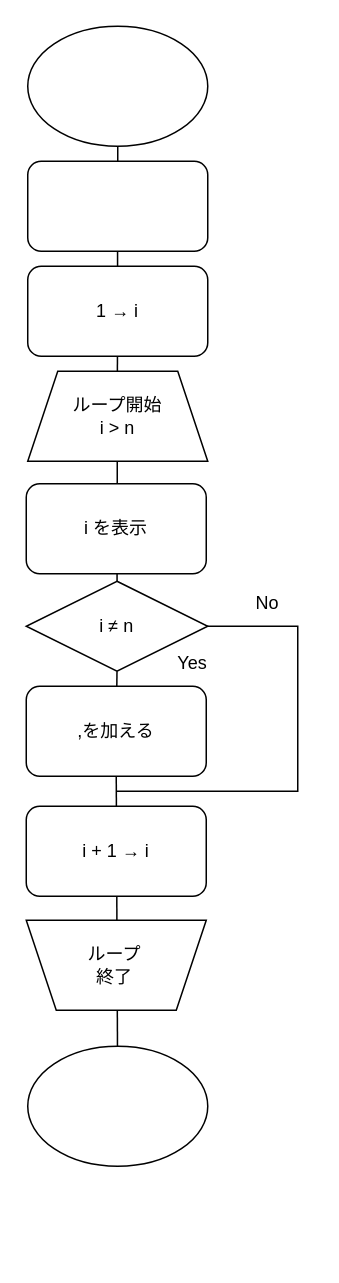
Image size: 339x1283. Some labels were removed from this diagram. Here are the shapes that lost their labels. From the top down, the centre of each, then its label:
At pixel 117 85: "開始".
At pixel 117 205: "7 → n".
At pixel 117 1105: "終了".
